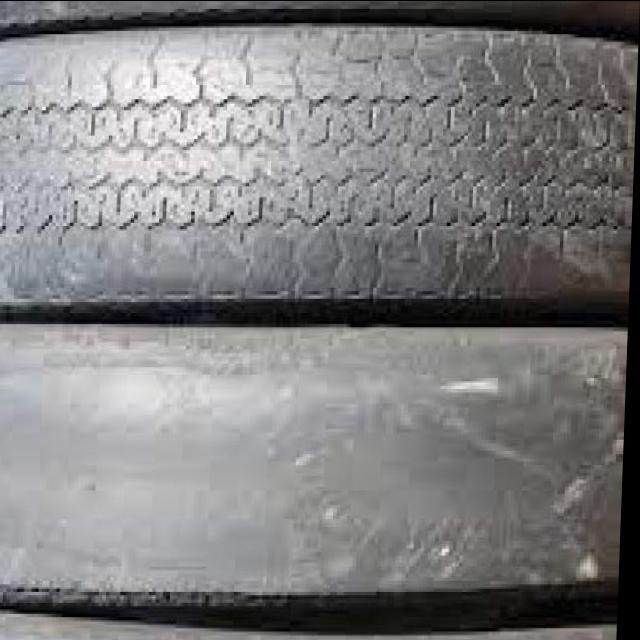Flat spots: (0, 25, 636, 551)
